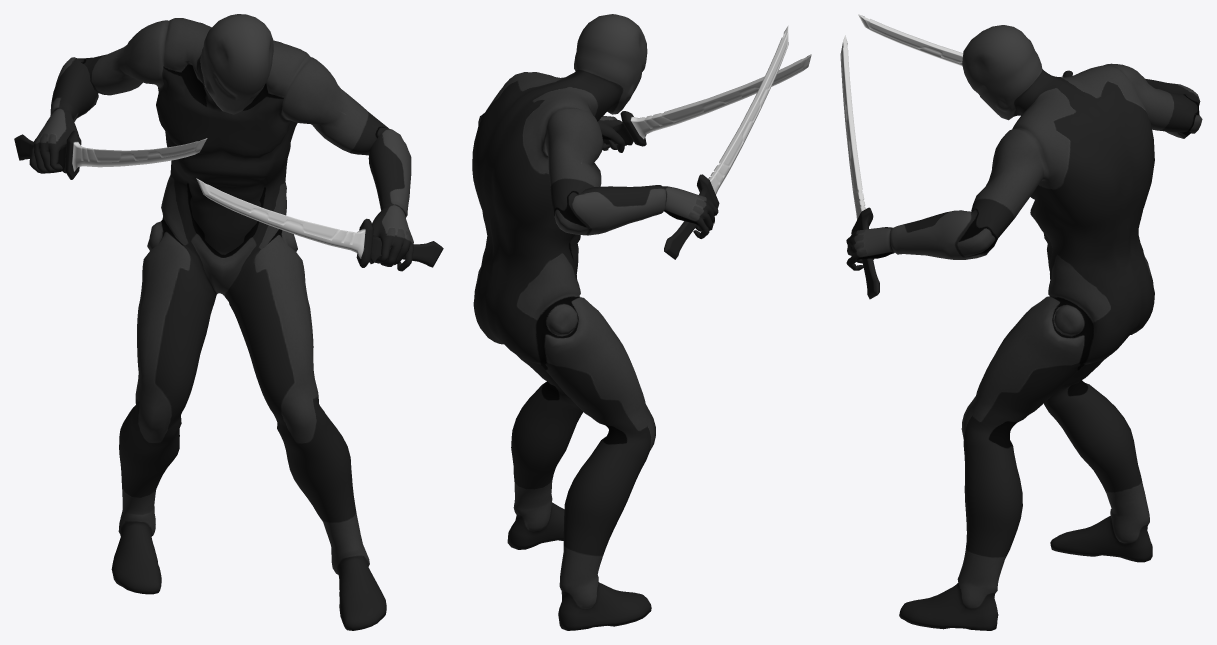
The picture shows the model from 3 angles, left to right: view 1: azimuth 30°, elevation 25°; view 2: azimuth 150°, elevation 25°; view 3: azimuth 270°, elevation 25°; orthographic projection. The views are drawn at different scales.
Visible parts, largest first — view 1: Cyborg_Ninja_Killer, Sword_l, Sword_l001; view 2: Cyborg_Ninja_Killer, Sword_l, Sword_l001; view 3: Cyborg_Ninja_Killer, Sword_l, Sword_l001.
Boxes of the visible parts, bbox=[...] form: Cyborg_Ninja_Killer: bbox=[29, 14, 413, 630]; Sword_l: bbox=[196, 178, 443, 267]; Sword_l001: bbox=[14, 130, 207, 179]; Cyborg_Ninja_Killer: bbox=[472, 14, 718, 630]; Sword_l: bbox=[603, 54, 811, 146]; Sword_l001: bbox=[664, 25, 788, 259]; Cyborg_Ninja_Killer: bbox=[846, 25, 1202, 630]; Sword_l: bbox=[840, 35, 879, 299]; Sword_l001: bbox=[858, 14, 1072, 77].
Size of the model in its own units: 90.98 by 167 by 98.72.
Materials: 2 (2 with a texture image).
